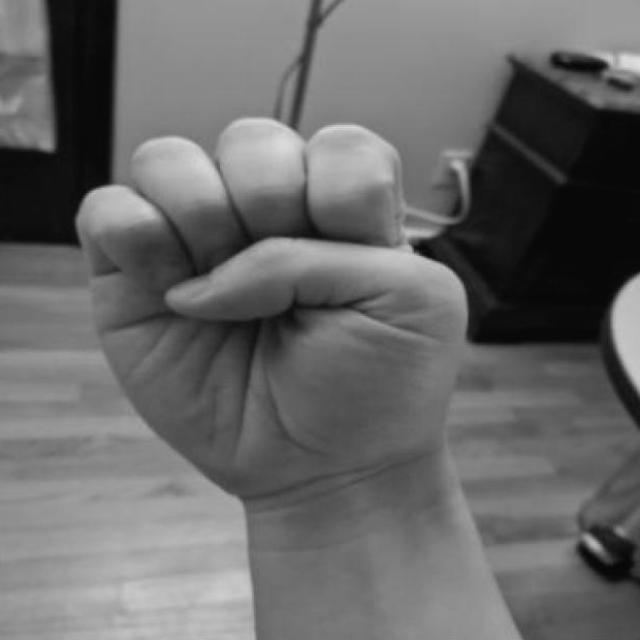E: (59, 85, 500, 528)
